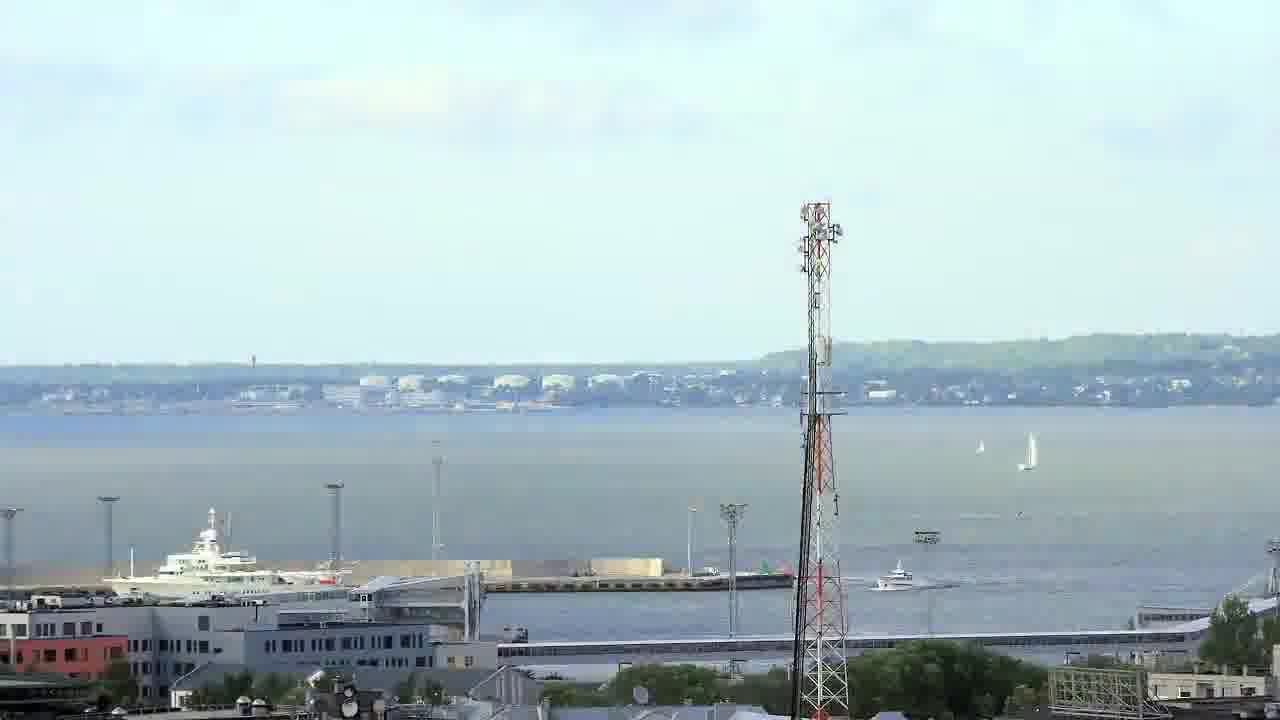type-1: (866, 554, 935, 593)
type-2: (1009, 412, 1064, 486)
type-3: (84, 515, 355, 603)
